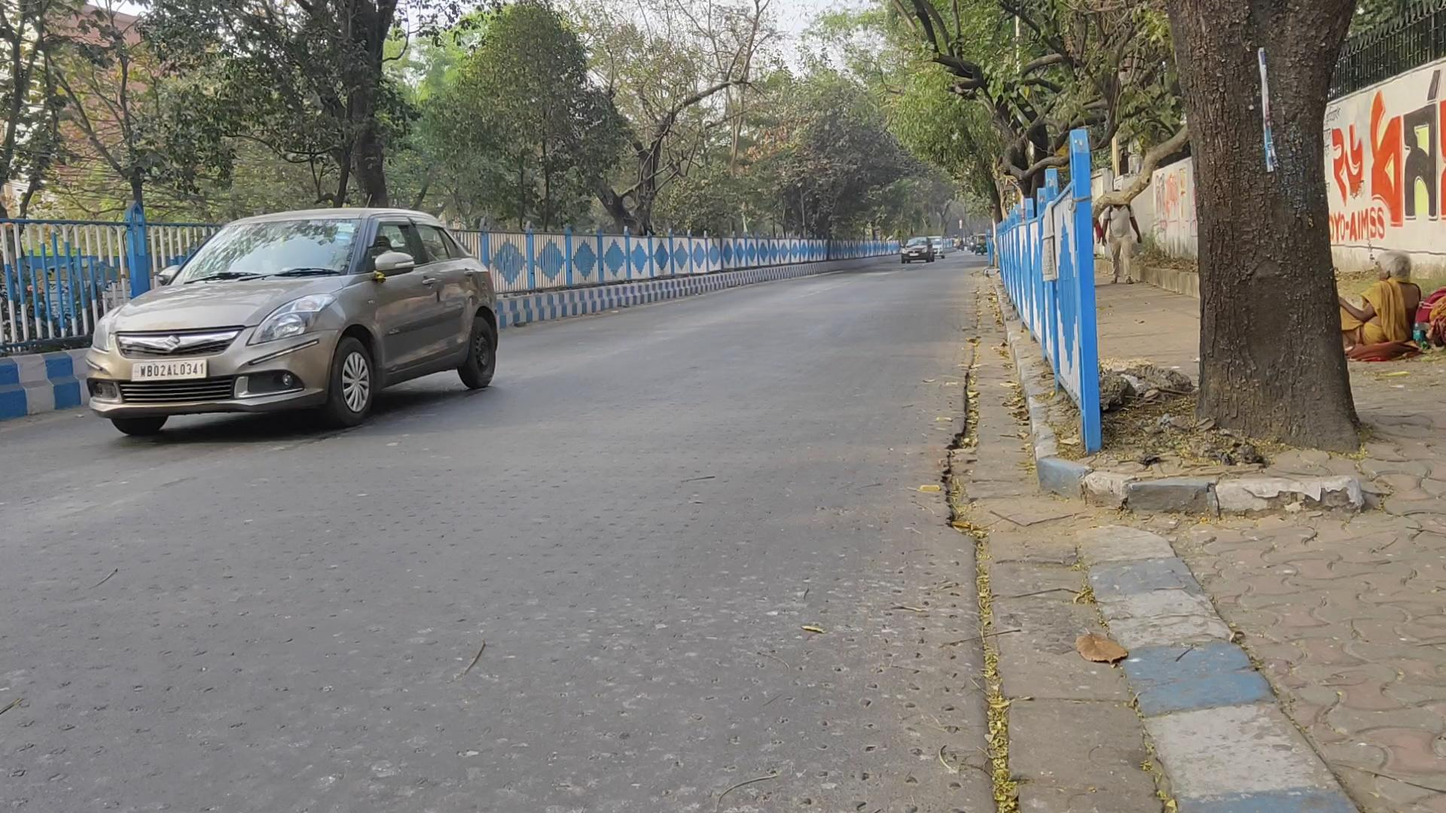car: (84, 208, 500, 437), (900, 236, 935, 265)
